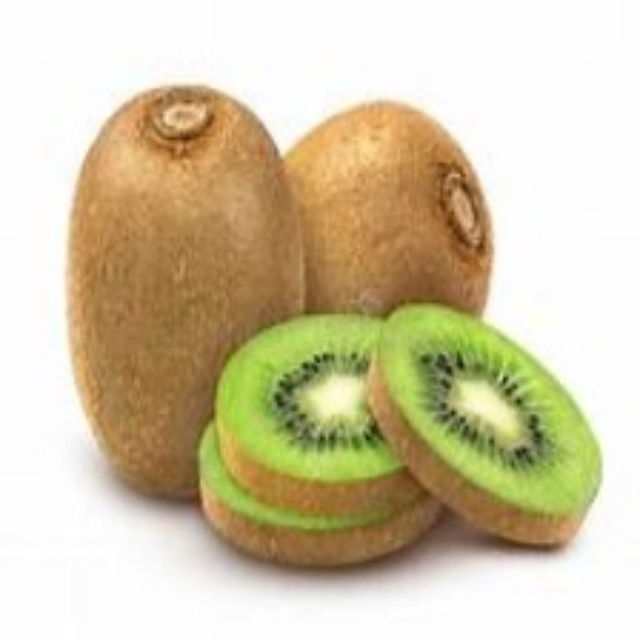kiwi: (186, 316, 603, 567), (63, 89, 302, 505), (263, 91, 483, 328)
